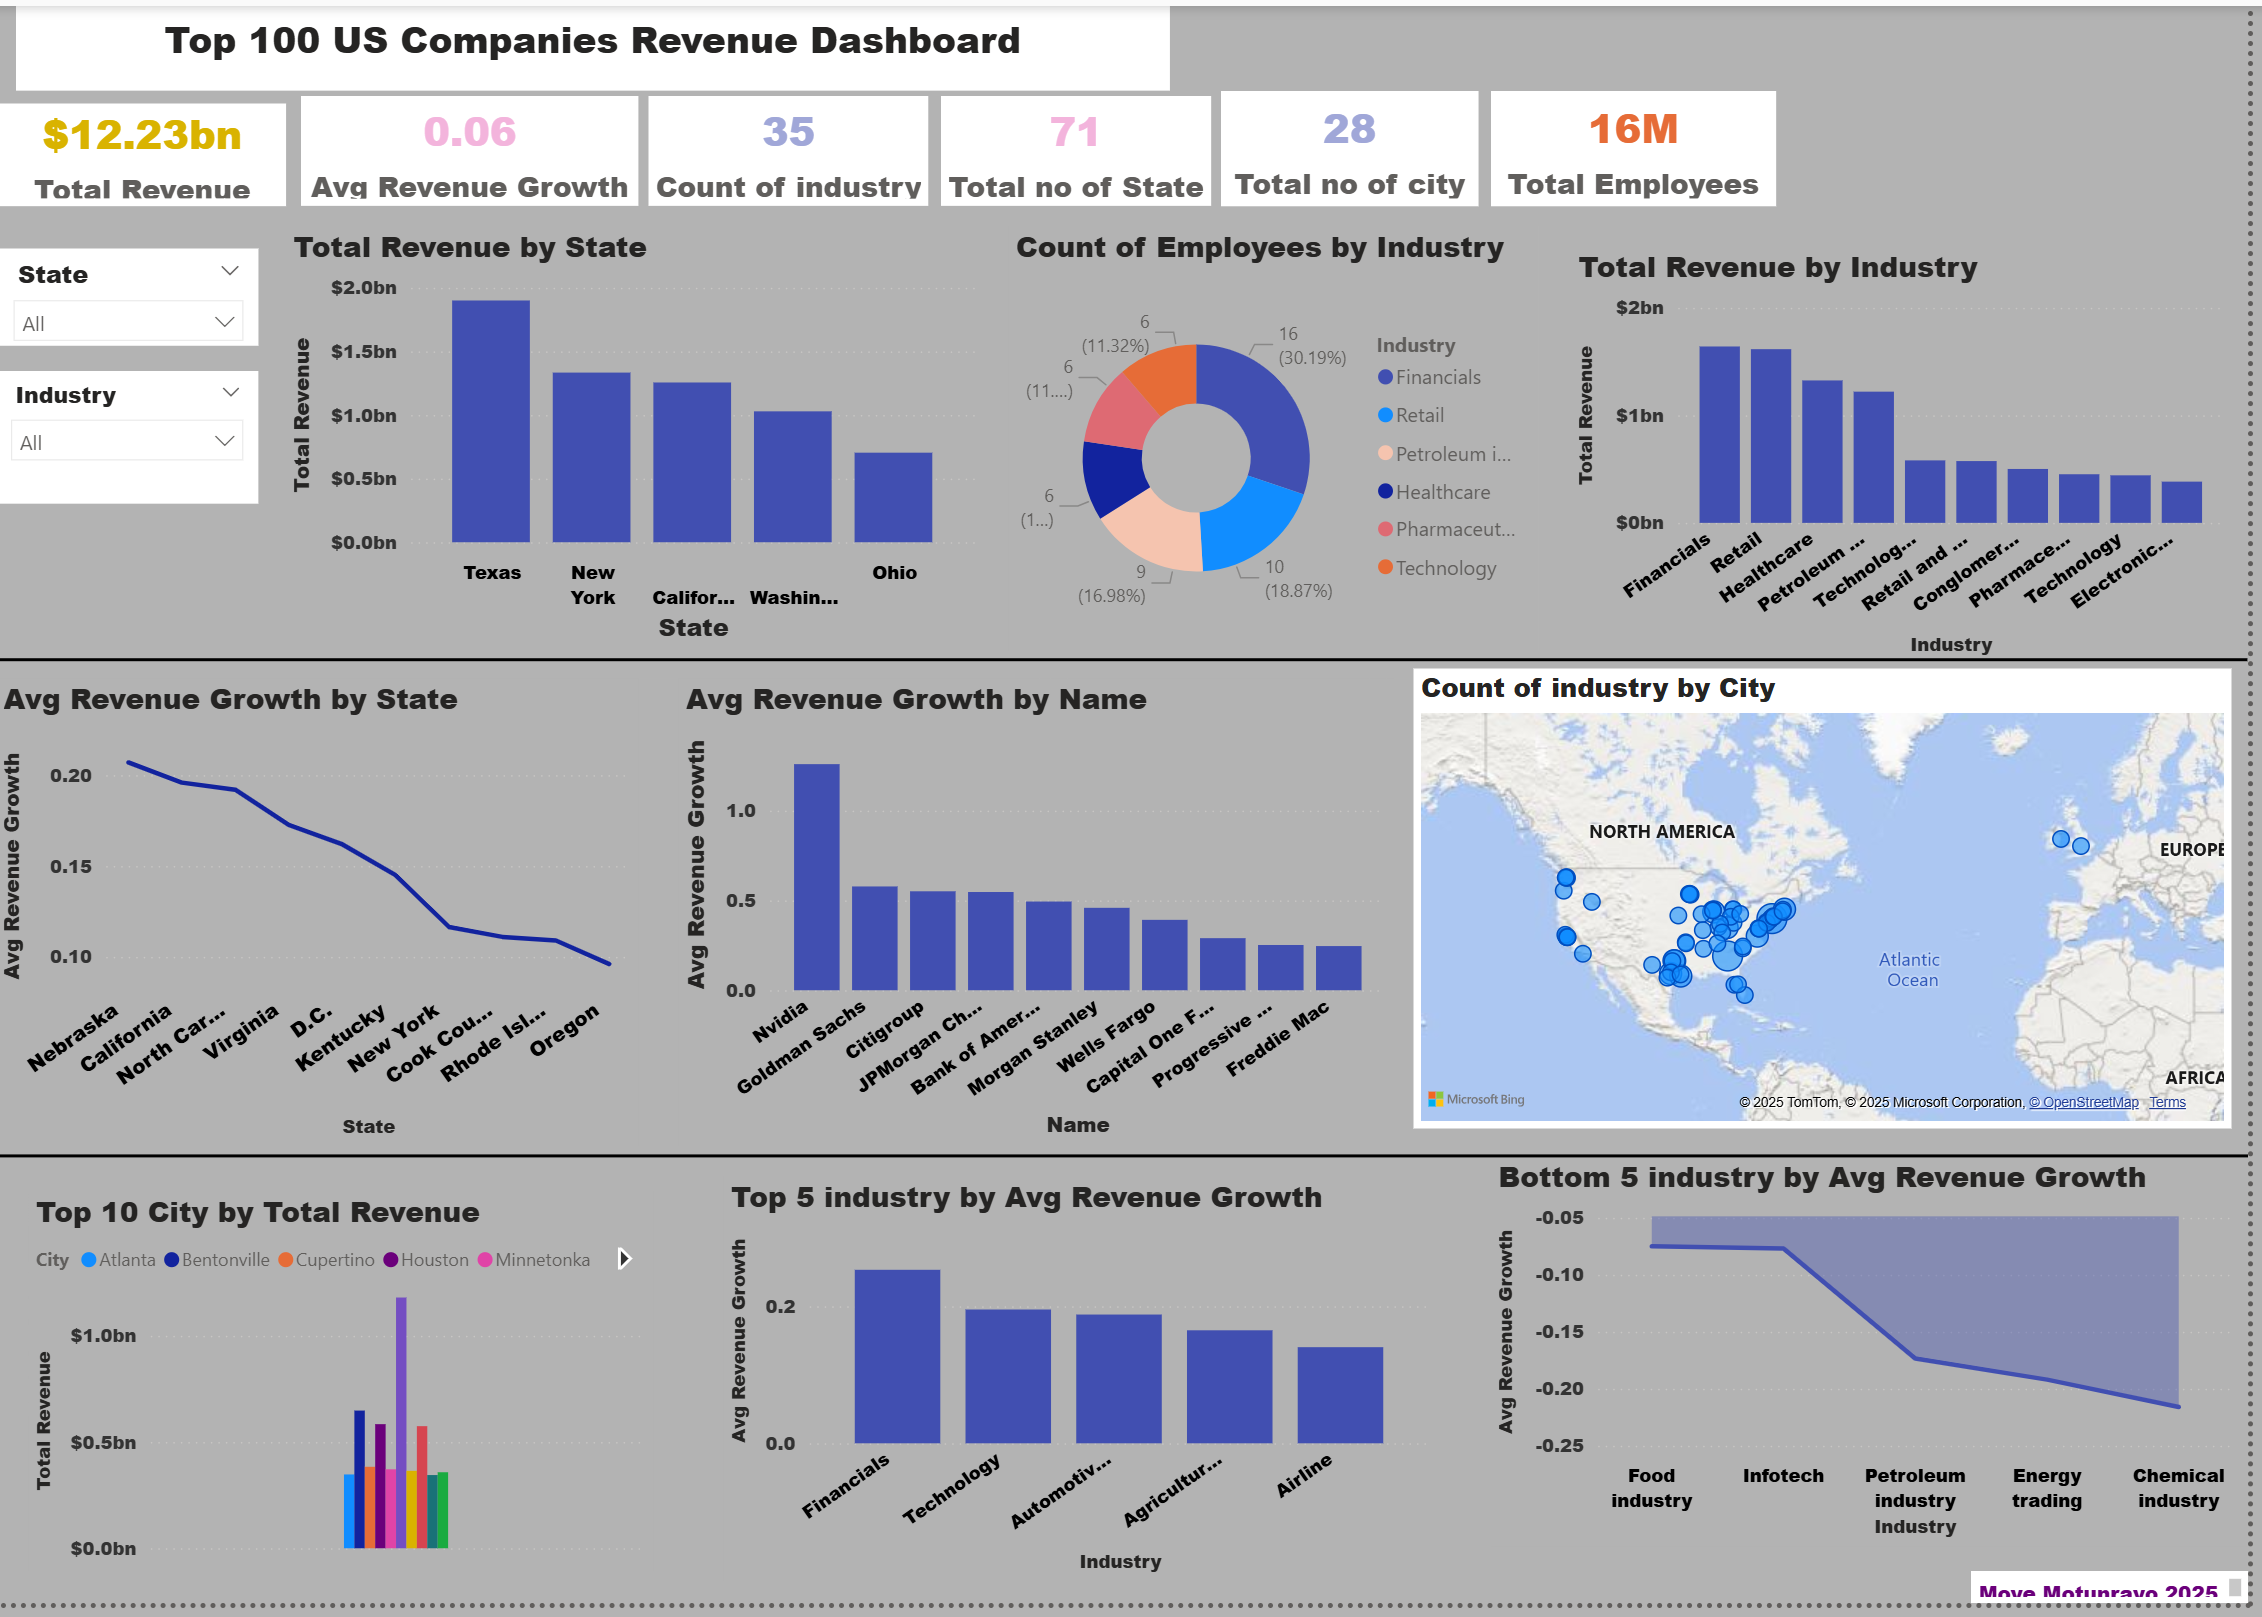

Layout of this report page (visuals, bound fields, positions):
{"tool":"powerbi","page":{"name":"Page 1","canvas":[1500,1064],"ordinal":0},"visuals":[{"type":"card","fields":{"Values":["CompaniesinUSA2.Total Revenue"]},"box":[1.7,65,191.5,68.3],"z":0},{"type":"card","fields":{"Values":["CompaniesinUSA2.Avg Revenue Growth"]},"box":[203.2,60,224.9,73.3],"z":1000},{"type":"card","fields":{"Values":["CompaniesinUSA2.Count no of industry"]},"box":[434.7,60,186.6,73.3],"z":2000},{"type":"card","fields":{"Values":["CompaniesinUSA2.Total no of State"]},"box":[629.6,60,179.9,73.3],"z":3000},{"type":"card","fields":{"Values":["CompaniesinUSA2.Total number of city"]},"box":[816.2,56.6,171.6,76.6],"z":4000},{"type":"card","fields":{"Values":["CompaniesinUSA2.Total Employees"]},"box":[996,56.6,189.9,76.6],"z":5000},{"type":"lineClusteredColumnComboChart","fields":{"Y":["CompaniesinUSA2.Total Revenue"],"Category":["CompaniesinUSA2.Industry"]},"box":[1049.3,159.9,439.7,278.2],"z":6000},{"type":"slicer","fields":{"Values":["CompaniesinUSA2.Industry"]},"box":[0,243.2,174.9,88.3],"z":7000},{"type":"lineClusteredColumnComboChart","fields":{"Y":["CompaniesinUSA2.Total Revenue"],"Category":["CompaniesinUSA2.State"]},"box":[193.2,146.6,464.7,283.2],"z":8000},{"type":"lineChart","fields":{"Category":["CompaniesinUSA2.State"],"Y":["CompaniesinUSA2.Avg Revenue Growth"]},"box":[0,448.1,428.1,311.5],"z":9000},{"type":"donutChart","fields":{"Y":["CompaniesinUSA2.Count no of Employees"],"Category":["CompaniesinUSA2.Industry"]},"box":[674.6,146.6,353.1,283.2],"z":10000},{"type":"textbox","box":[14.1,0,768.6,56.4],"z":11000},{"type":"textbox","box":[1315.8,1042.7,184.9,21.7],"z":12000},{"type":"lineClusteredColumnComboChart","title":"Top 10 City by Total Revenue","fields":{"Y":["CompaniesinUSA2.Total Revenue"],"Series":["CompaniesinUSA2.City"]},"box":[21.7,789.5,416.4,253.2],"z":13000},{"type":"columnChart","title":"Top 5 industry by Avg Revenue Growth","fields":{"Y":["CompaniesinUSA2.Avg Revenue Growth"],"Category":["CompaniesinUSA2.Industry"]},"box":[484.7,779.5,476.4,269.8],"z":14000},{"type":"areaChart","title":"Bottom 5 industry by Avg Revenue Growth","fields":{"Category":["CompaniesinUSA2.Industry"],"Y":["CompaniesinUSA2.Avg Revenue Growth"]},"box":[996,766.2,504.7,259.8],"z":15000},{"type":"map","fields":{"Size":["CompaniesinUSA2.Count no of industry"],"Category":["CompaniesinUSA2.State"]},"box":[944.4,441.4,544.7,306.5],"z":16000},{"type":"lineClusteredColumnComboChart","fields":{"Y":["CompaniesinUSA2.Avg Revenue Growth"],"Category":["CompaniesinUSA2.Name"]},"box":[454.7,448.1,476.4,311.5],"z":17000},{"type":"slicer","fields":{"Values":["CompaniesinUSA2.State"]},"box":[1.7,161.6,173.2,65],"z":18000},{"type":"shape","box":[0,429.7,1500,11.7],"z":19000},{"type":"shape","box":[0,759.5,1500.7,13.3],"z":20000}]}

Visuals, with their boxes in screenshot pixels (x1, y1, x2, y2), scaled from the page's 1500x1064 canvas onto the 2262x1617 screenshot:
card - CompaniesinUSA2.Total Revenue: box=[3, 99, 291, 203]
card - CompaniesinUSA2.Avg Revenue Growth: box=[306, 91, 646, 203]
card - CompaniesinUSA2.Count no of industry: box=[656, 91, 937, 203]
card - CompaniesinUSA2.Total no of State: box=[949, 91, 1221, 203]
card - CompaniesinUSA2.Total number of city: box=[1231, 86, 1490, 202]
card - CompaniesinUSA2.Total Employees: box=[1502, 86, 1788, 202]
lineClusteredColumnComboChart - CompaniesinUSA2.Total Revenue x CompaniesinUSA2.Industry: box=[1582, 243, 2245, 666]
slicer - CompaniesinUSA2.Industry: box=[0, 370, 264, 504]
lineClusteredColumnComboChart - CompaniesinUSA2.Total Revenue x CompaniesinUSA2.State: box=[291, 223, 992, 653]
lineChart - CompaniesinUSA2.State x CompaniesinUSA2.Avg Revenue Growth: box=[0, 681, 646, 1154]
donutChart - CompaniesinUSA2.Count no of Employees x CompaniesinUSA2.Industry: box=[1017, 223, 1550, 653]
textbox: box=[21, 0, 1180, 86]
textbox: box=[1984, 1585, 2261, 1616]
"Top 10 City by Total Revenue" lineClusteredColumnComboChart: box=[33, 1200, 661, 1585]
"Top 5 industry by Avg Revenue Growth" columnChart: box=[731, 1185, 1449, 1595]
"Bottom 5 industry by Avg Revenue Growth" areaChart: box=[1502, 1164, 2261, 1559]
map - CompaniesinUSA2.Count no of industry x CompaniesinUSA2.State: box=[1424, 671, 2246, 1137]
lineClusteredColumnComboChart - CompaniesinUSA2.Avg Revenue Growth x CompaniesinUSA2.Name: box=[686, 681, 1404, 1154]
slicer - CompaniesinUSA2.State: box=[3, 246, 264, 344]
shape: box=[0, 653, 2261, 671]
shape: box=[0, 1154, 2261, 1174]
